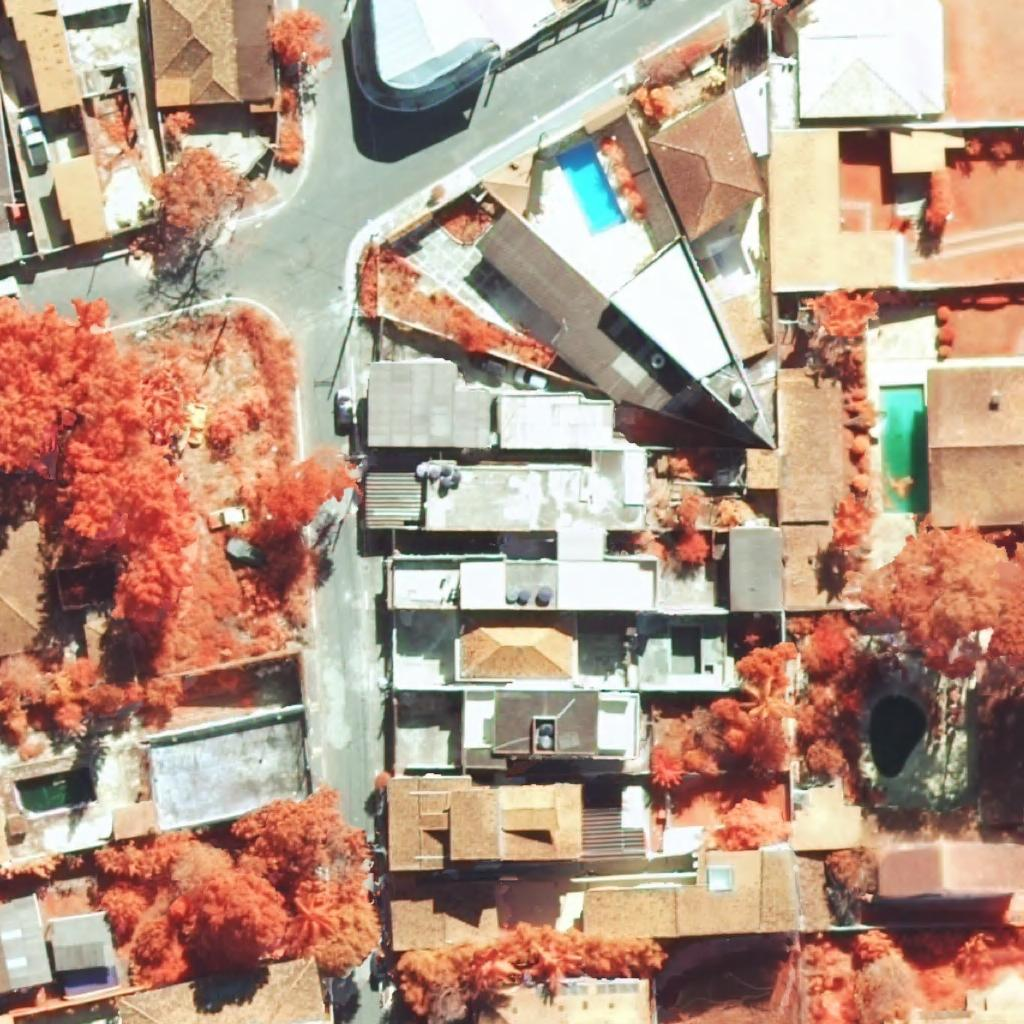pool: (556, 141, 627, 236), (879, 385, 929, 513), (871, 695, 927, 779), (14, 767, 98, 814)
